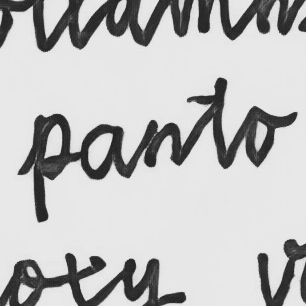a: (76, 122, 125, 184)
n: (140, 118, 183, 171)
o: (240, 103, 277, 170)
p: (29, 111, 74, 226)
t: (195, 77, 240, 171)
